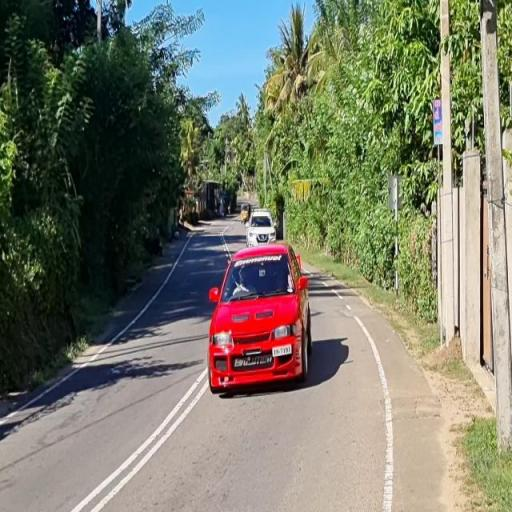double_white_line: (74, 366, 207, 510)
